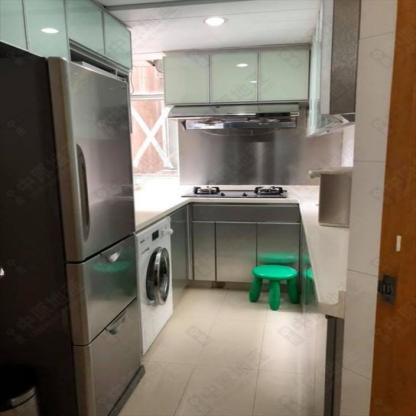Cupboard: (164, 46, 311, 106), (192, 203, 299, 281)
Exhaust Hood: (167, 103, 302, 135)
Fridge: (3, 55, 144, 414)
Stove: (181, 184, 291, 197)
Washing Machine: (132, 214, 175, 357)
